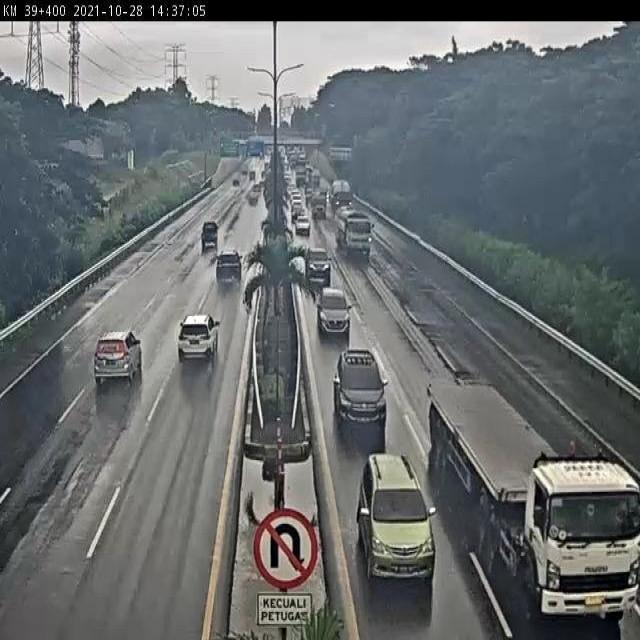big truck: (419, 334, 640, 640), (329, 204, 377, 267), (325, 173, 358, 220)
car: (343, 438, 445, 594), (323, 339, 396, 440), (88, 314, 149, 398), (170, 299, 223, 376), (307, 272, 358, 352), (299, 232, 338, 299), (208, 240, 250, 297), (193, 208, 226, 261), (290, 212, 314, 245)
